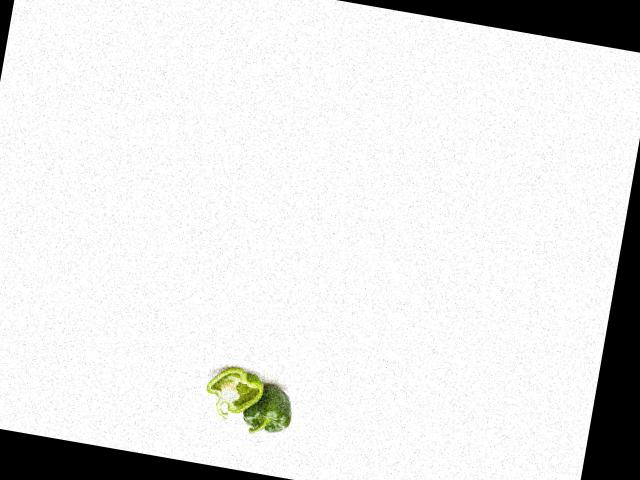bell_pepper: (198, 364, 268, 427)
